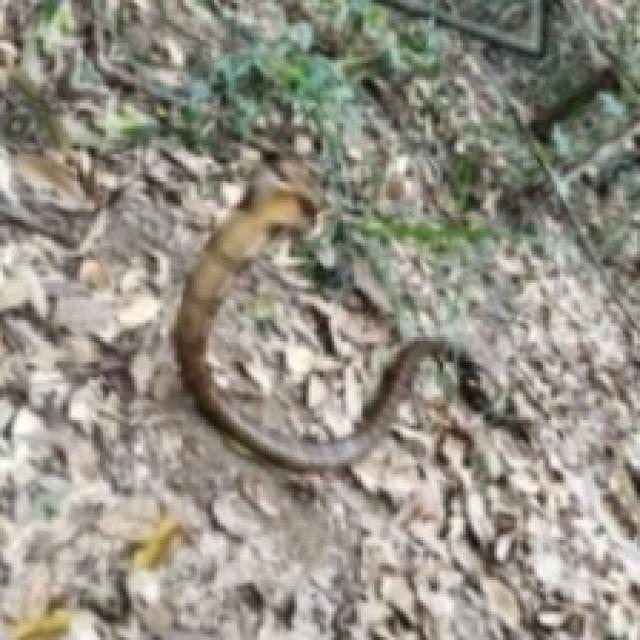king cobra: (174, 157, 454, 469)
